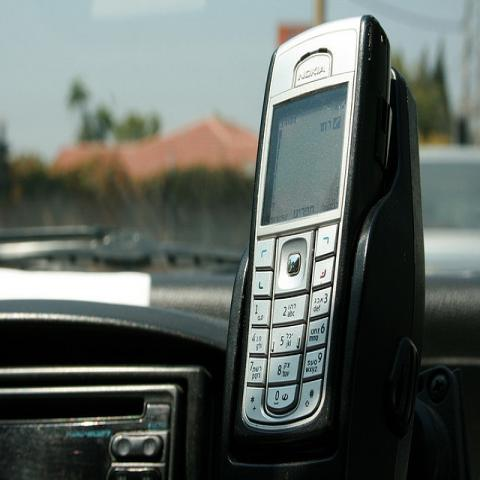car: (419, 132, 479, 282)
